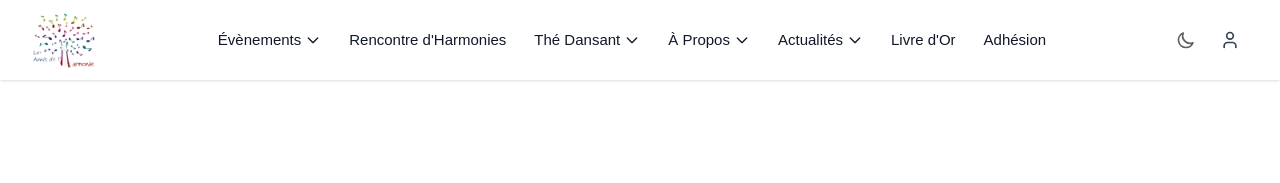
Header › affiche les éditions du Thé Dansant dans le menu déroulant dans l'ordre prévu
The width and height of the screenshot is (1280, 183).
Hover over the element "Thé Dansant" at (587, 40), box top-left (534, 31), bottom-right (640, 48)
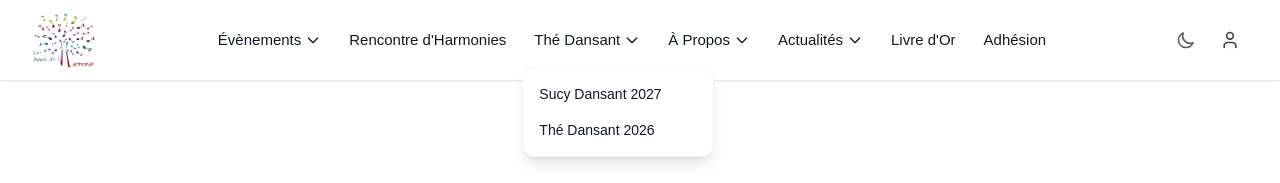
Result: the element with class "absolute" is shown at top-left (522, 59), bottom-right (714, 157)
